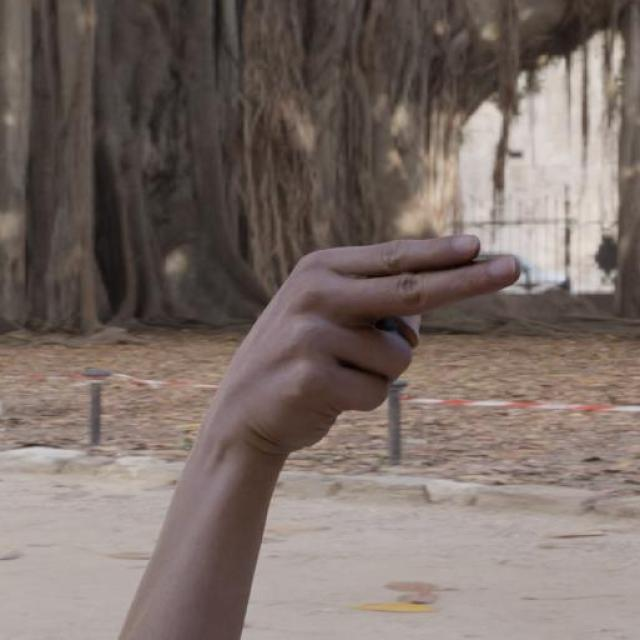H: (212, 226, 530, 459)
